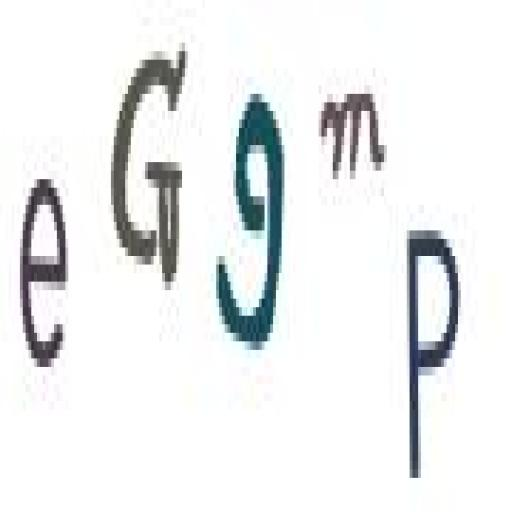9: (212, 79, 287, 364)
G: (110, 34, 190, 300)
P: (405, 215, 461, 488)
e: (18, 163, 70, 377)
m: (318, 93, 390, 196)
